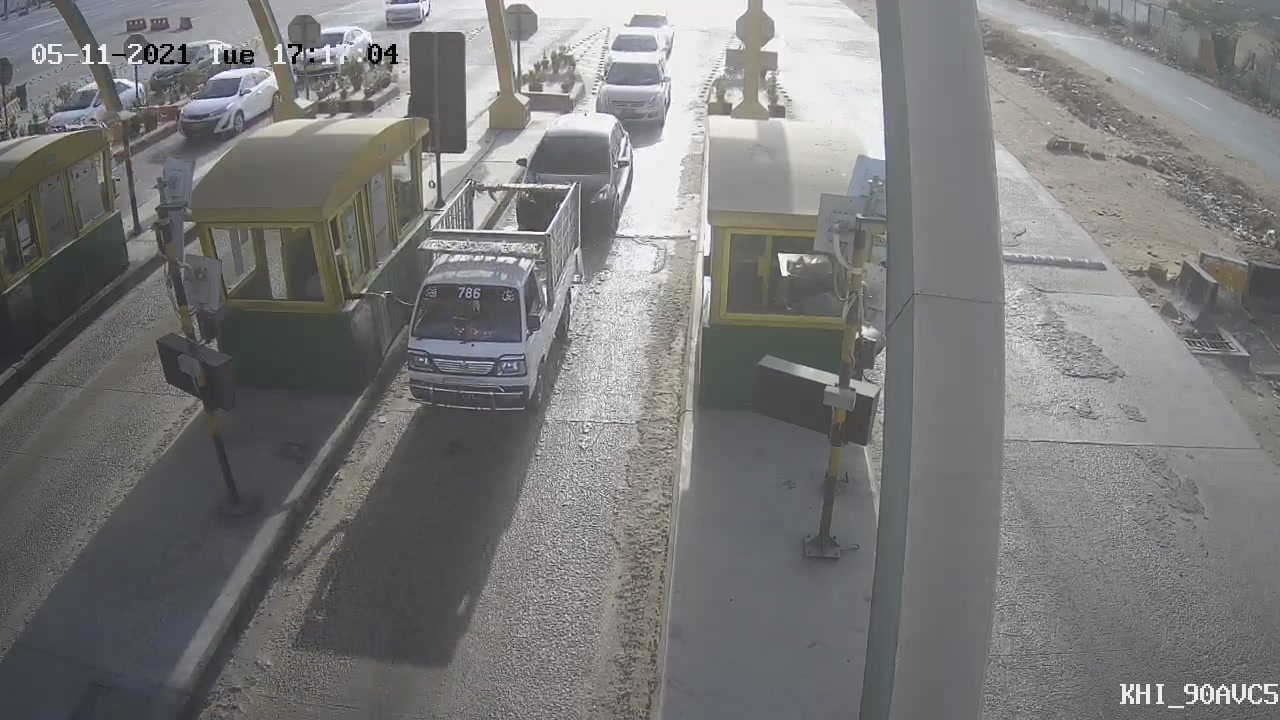F1: (400, 188, 592, 427), (504, 103, 647, 249)
